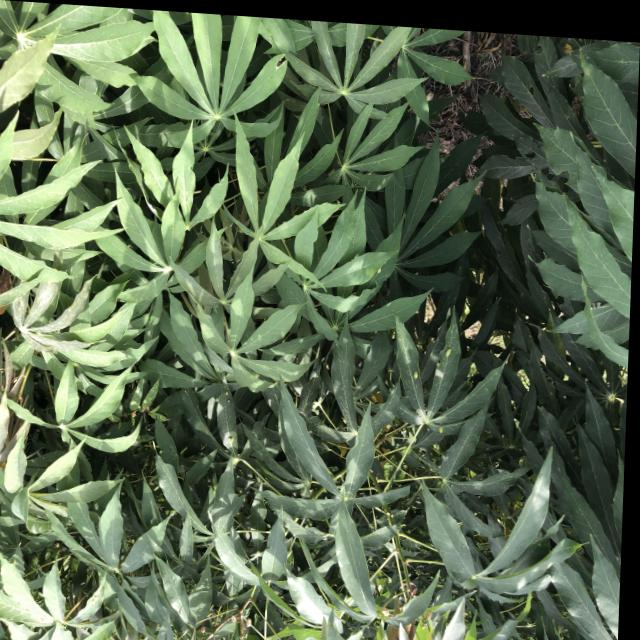Mosca: (435, 346, 459, 365), (406, 367, 422, 383), (294, 332, 309, 348), (434, 424, 448, 437), (373, 266, 383, 278)
